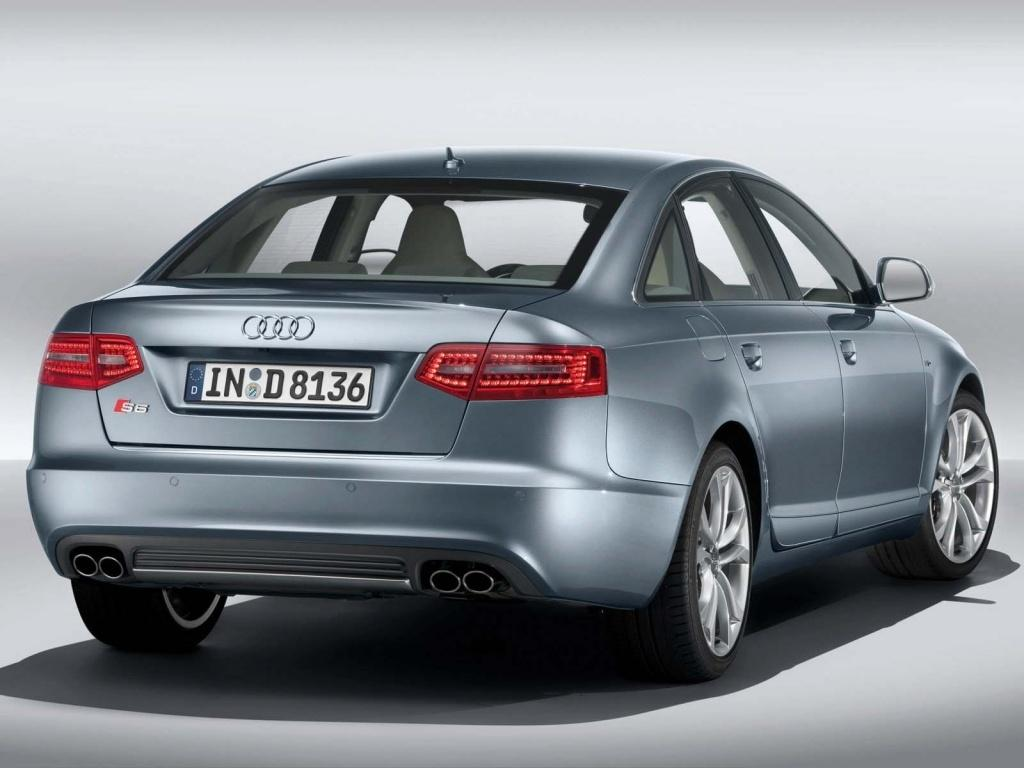car: (25, 138, 1008, 675)
